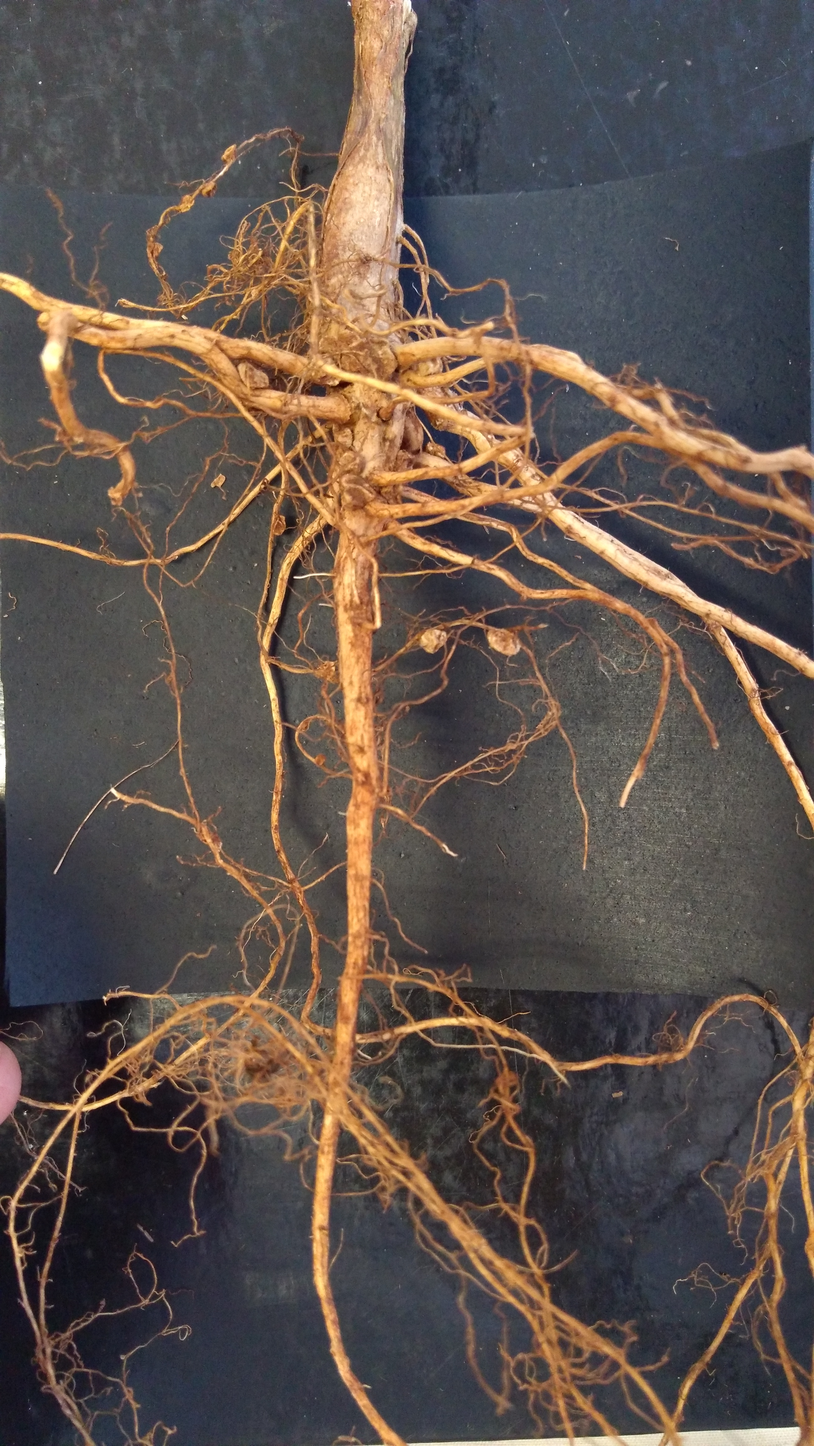nodule: (347, 335, 399, 382), (314, 327, 366, 372), (335, 472, 379, 513), (484, 626, 523, 660), (235, 360, 273, 394), (308, 352, 342, 389), (417, 625, 450, 657), (329, 418, 359, 452), (411, 354, 444, 379), (240, 1048, 272, 1072), (269, 510, 289, 543), (204, 470, 231, 491), (337, 451, 362, 473), (314, 659, 337, 682), (424, 438, 447, 460), (495, 1069, 518, 1088), (178, 192, 195, 214), (219, 143, 236, 163), (200, 180, 218, 198), (150, 241, 164, 259), (314, 752, 328, 767)
